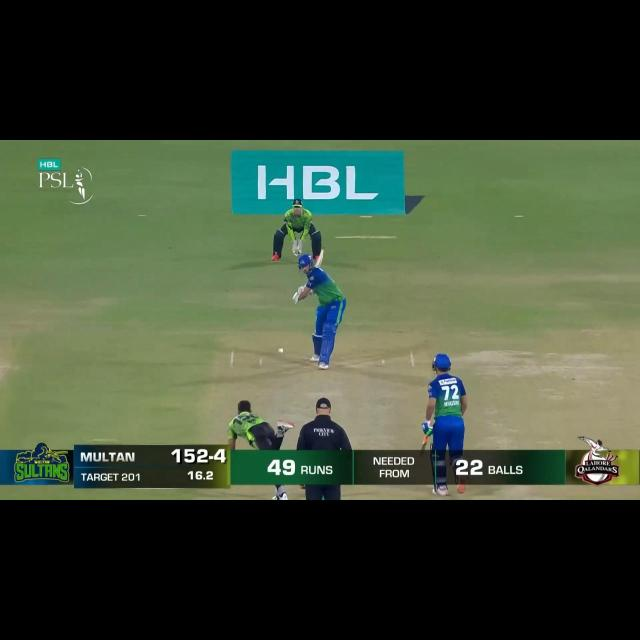bat: (316, 249, 325, 268)
toe: (319, 249, 324, 257)
